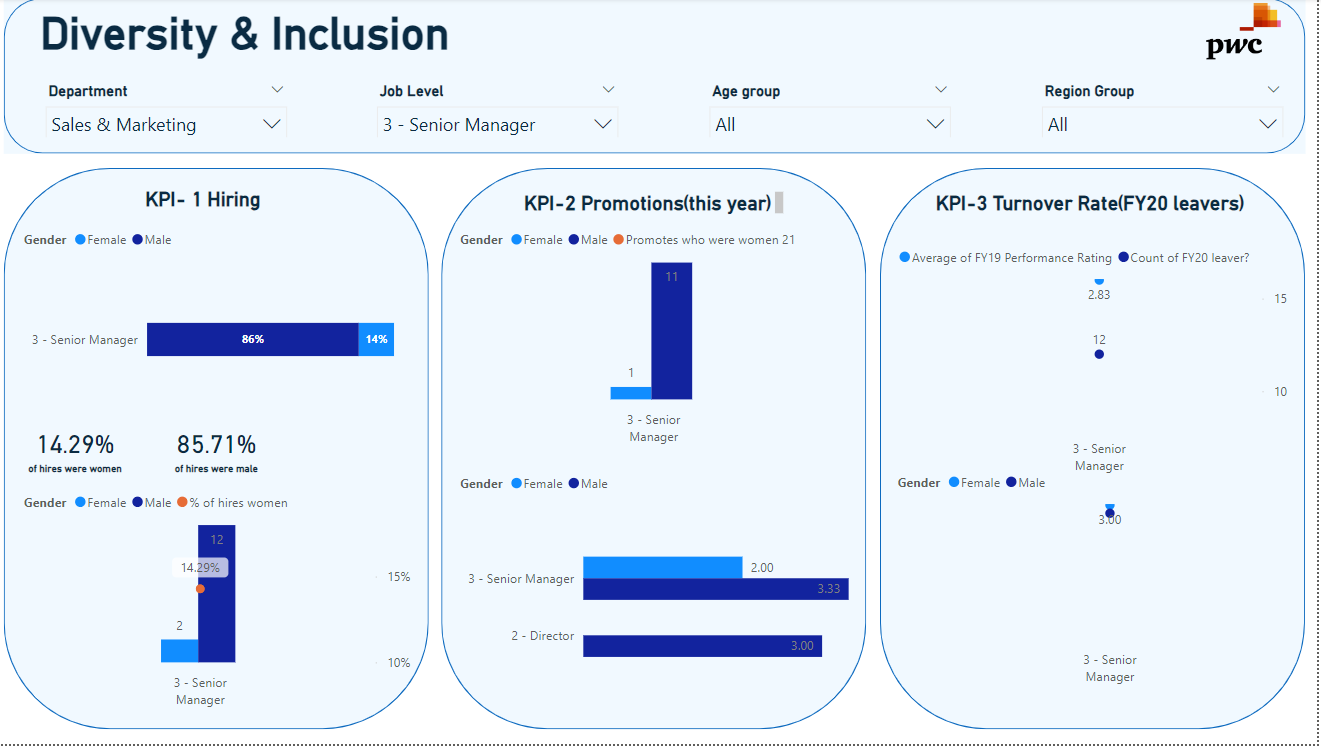

The dashboard page shown, as its layout file describes it:
{"tool":"powerbi","page":{"name":"Diversity  1","canvas":[1280,720],"ordinal":0},"visuals":[{"type":"shape","box":[12.9,164.3,410,541.4],"z":0},{"type":"shape","box":[12.9,0,1255.7,150],"z":1000},{"type":"textbox","box":[42.9,4.3,417.1,60],"z":2000},{"type":"image","box":[1161.4,0,95.7,64.3],"z":3000},{"type":"slicer","fields":{"Values":["Pharma Group AG.Department @01.07.2020"]},"box":[42.9,75.7,252.9,58.6],"z":4000},{"type":"slicer","fields":{"Values":["Pharma Group AG.Broad region group: nationality 1"]},"box":[1004.3,75.7,252.9,58.6],"z":5000},{"type":"slicer","fields":{"Values":["Pharma Group AG.Job Level before FY20 promotions"]},"box":[363.3,75.7,252.9,58.6],"z":6000},{"type":"slicer","fields":{"Values":["Pharma Group AG.Age group"]},"box":[683.8,75.7,252.9,58.6],"z":7000},{"type":"shape","box":[858.6,164.3,410,541.4],"z":8000},{"type":"shape","box":[435.7,164.3,410,541.4],"z":9000},{"type":"textbox","box":[145,178,146,35],"z":10000},{"type":"textbox","box":[885,181.7,351.7,63.3],"z":11000},{"type":"textbox","box":[510,182,260,31],"z":12000},{"type":"hundredPercentStackedBarChart","fields":{"Category":["Pharma Group AG.Job Level before FY20 promotions"],"Series":["Pharma Group AG.Gender"],"Y":["CountNonNull(Pharma Group AG.Employee ID)"]},"box":[27.3,213.6,367.3,198.2],"z":13000},{"type":"card","fields":{"Values":["Key_Measures.Female"]},"box":[27.3,404.5,109.1,61.8],"z":14000},{"type":"card","fields":{"Values":["Key_Measures.Male"]},"box":[163.6,404.5,109.1,61.8],"z":15000},{"type":"lineClusteredColumnComboChart","fields":{"Category":["Pharma Group AG.Job Level before FY20 promotions"],"Series":["Pharma Group AG.Gender"],"Y":["CountNonNull(Pharma Group AG.Employee ID)"],"Y2":["Key_Measures.Female"]},"box":[27.3,466.4,383.6,225.5],"z":16000},{"type":"lineClusteredColumnComboChart","fields":{"Series":["Pharma Group AG.Gender"],"Y":["CountNonNull(Pharma Group AG.Employee ID)"],"Category":["Pharma Group AG.Job Level after FY20 promotions"],"Y2":["Key_Measures.Promotes who were women 2"]},"box":[448.8,213.8,383.8,225],"z":17000},{"type":"clusteredBarChart","fields":{"Category":["Pharma Group AG.Job Level after FY21 promotions"],"Series":["Pharma Group AG.Gender"],"Y":["Avg(Pharma Group AG.Time in Job Level @01.07.2020)"]},"box":[448.3,448.3,385,244.2],"z":18000},{"type":"lineChart","fields":{"Category":["Pharma Group AG.Job Level after FY20 promotions"],"Y":["Avg(Pharma Group AG.FY19 Performance Rating)"],"Y2":["CountNonNull(Pharma Group AG.FY20 leaver?)"]},"box":[872,230,385,236],"z":19000},{"type":"lineChart","fields":{"Category":["Pharma Group AG.Job Level after FY20 promotions"],"Y":["Avg(Pharma Group AG.FY19 Performance Rating)"],"Series":["Pharma Group AG.Gender"]},"box":[871,448,385,223],"z":20000}]}

Visuals, with their boxes in screenshot pixels (x1, y1, x2, y2), scaled from the page's 1280x720 canvas onto the 1321x750 screenshot:
shape: detection(13, 171, 436, 735)
shape: detection(13, 0, 1309, 156)
textbox: detection(44, 4, 475, 67)
image: detection(1199, 0, 1297, 67)
slicer - Pharma Group AG.Department @01.07.2020: detection(44, 79, 305, 140)
slicer - Pharma Group AG.Broad region group: nationality 1: detection(1036, 79, 1297, 140)
slicer - Pharma Group AG.Job Level before FY20 promotions: detection(375, 79, 636, 140)
slicer - Pharma Group AG.Age group: detection(706, 79, 967, 140)
shape: detection(886, 171, 1309, 735)
shape: detection(450, 171, 873, 735)
textbox: detection(150, 185, 300, 222)
textbox: detection(913, 189, 1276, 255)
textbox: detection(526, 190, 795, 222)
hundredPercentStackedBarChart - Pharma Group AG.Job Level before FY20 promotions x Pharma Group AG.Gender: detection(28, 222, 407, 429)
card - Key_Measures.Female: detection(28, 421, 141, 486)
card - Key_Measures.Male: detection(169, 421, 281, 486)
lineClusteredColumnComboChart - Pharma Group AG.Job Level before FY20 promotions x Pharma Group AG.Gender: detection(28, 486, 424, 721)
lineClusteredColumnComboChart - Pharma Group AG.Gender x CountNonNull(Pharma Group AG.Employee ID): detection(463, 223, 859, 457)
clusteredBarChart - Pharma Group AG.Job Level after FY21 promotions x Pharma Group AG.Gender: detection(463, 467, 860, 721)
lineChart - Pharma Group AG.Job Level after FY20 promotions x Avg(Pharma Group AG.FY19 Performance Rating): detection(900, 240, 1297, 485)
lineChart - Pharma Group AG.Job Level after FY20 promotions x Avg(Pharma Group AG.FY19 Performance Rating): detection(899, 467, 1296, 699)
